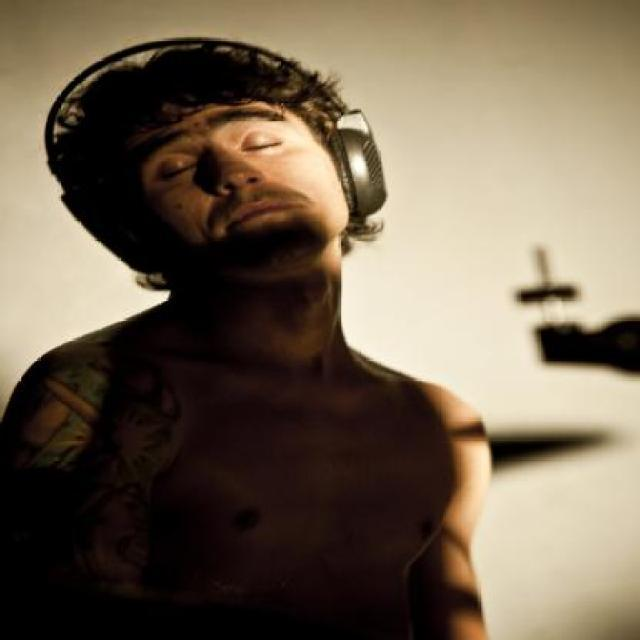earphone: (284, 20, 404, 233)
